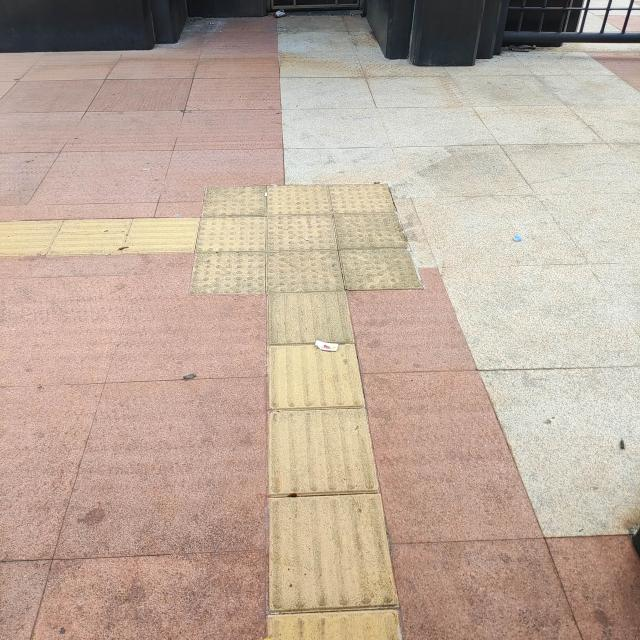kiri: (64, 183, 423, 362)
